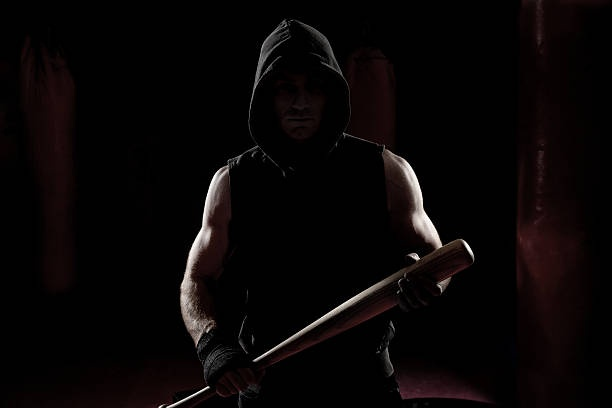bita: (175, 237, 477, 408)
